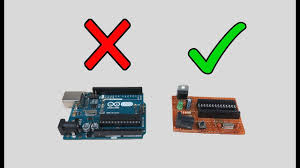arduino: (51, 80, 150, 143)
